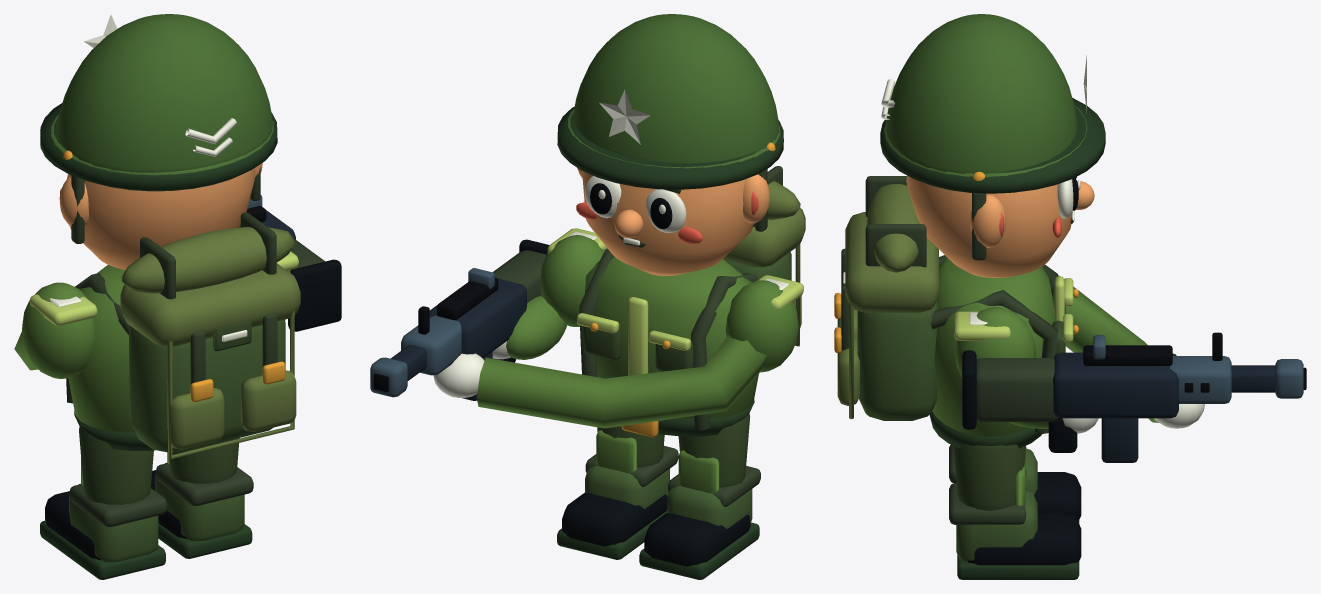
Rendered from soldier.glb.
3 renders of one model, left to right at view 1: azimuth 30°, elevation 25°; view 2: azimuth 150°, elevation 25°; view 3: azimuth 270°, elevation 25°, orthographic. The views are drawn at different scales.
Parts seen in each view (by area): view 1: Body, Head, LegL, LegR, Arms; view 2: Head, Arms, Body, LegL, LegR; view 3: Head, Body, Arms, LegR, LegL.
Part boxes in pixels (x1,y1,x2,y2): Body: [29, 212, 300, 459]; Head: [40, 14, 277, 270]; LegL: [40, 426, 167, 579]; LegR: [151, 438, 253, 558]; Arms: [14, 195, 341, 378]; Head: [557, 14, 783, 275]; Arms: [370, 235, 798, 428]; Body: [547, 166, 805, 437]; LegL: [639, 413, 760, 579]; LegR: [557, 426, 678, 559]; Head: [880, 14, 1105, 277]; Body: [834, 176, 1078, 448]; Arms: [955, 275, 1306, 462]; LegR: [949, 444, 1081, 579]; LegL: [949, 444, 1081, 523].
Bounding box in the file's own units: 0.837 × 1.42 × 1.16.
Materials: 1 (1 with a texture image).
